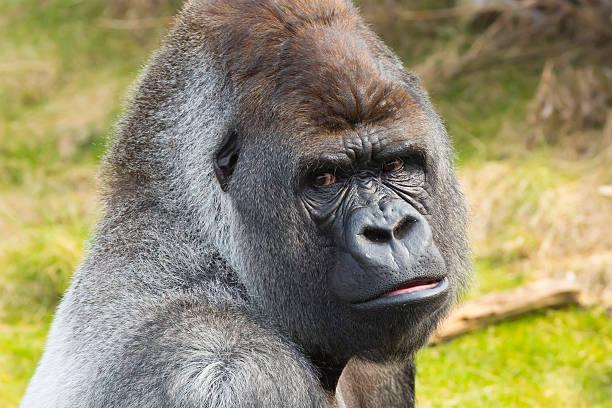gorille_Autres: (43, 0, 509, 408)
